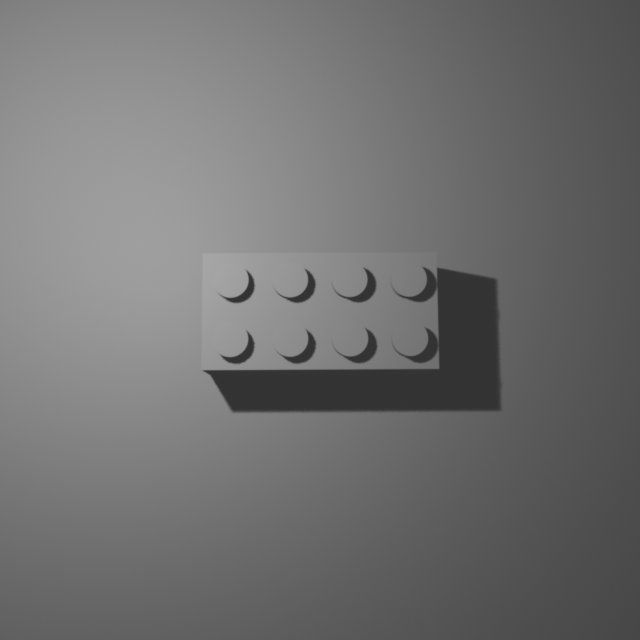lego_2x4: (200, 250, 441, 375)
